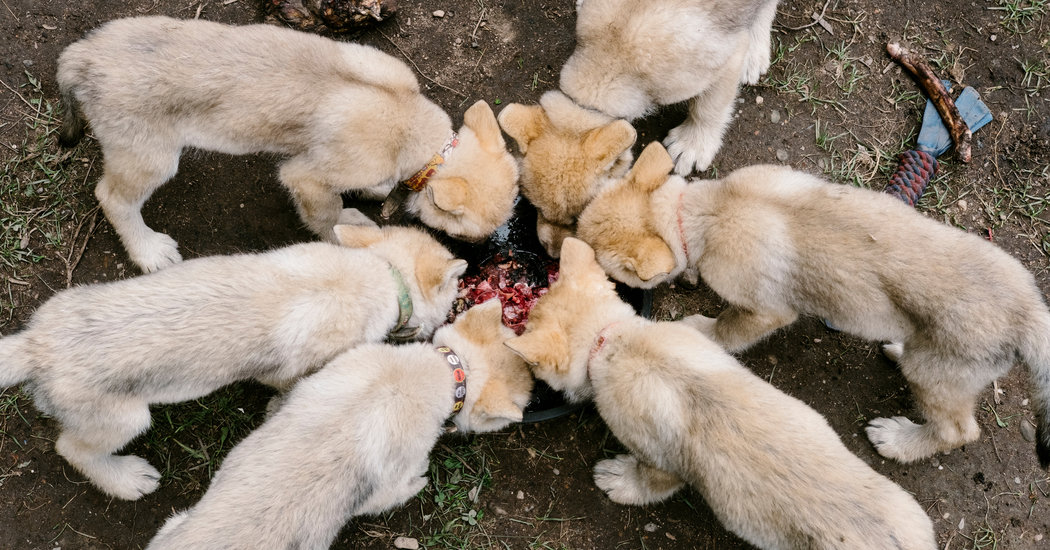dog: (573, 138, 1050, 463), (518, 237, 945, 550), (6, 222, 514, 480), (54, 15, 518, 270), (148, 300, 534, 548), (499, 1, 784, 250)
